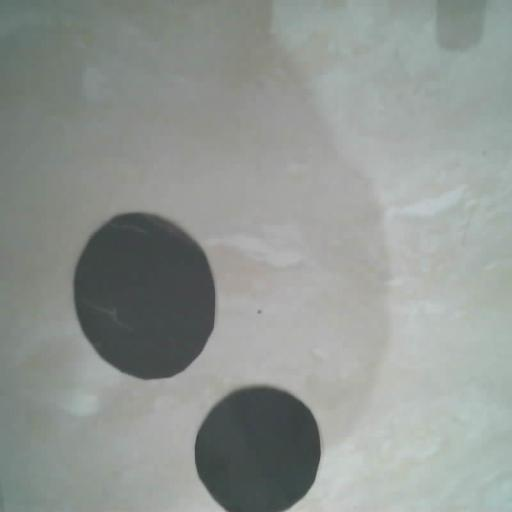pothole: (72, 212, 216, 380), (194, 386, 321, 511)
